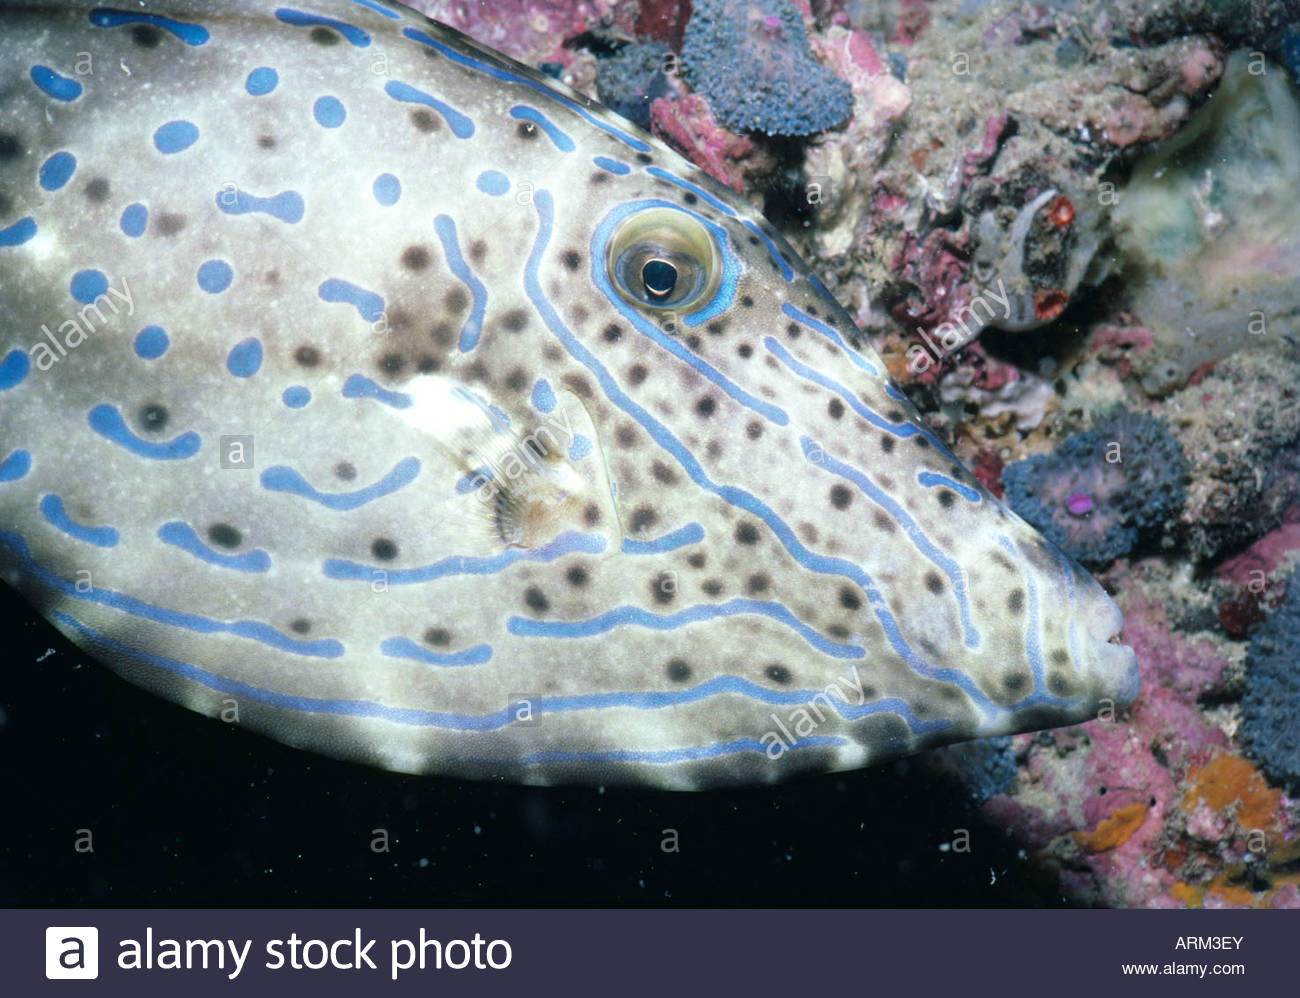Aluterus_scriptus: (1, 1, 1147, 805)
